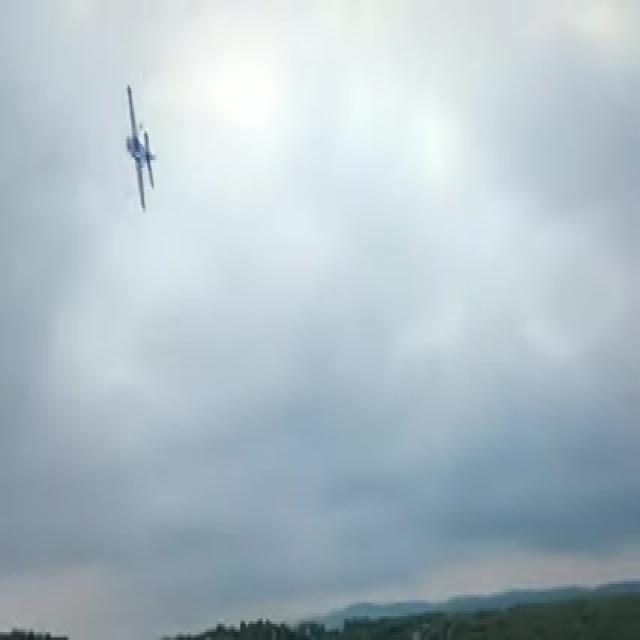iha: (117, 82, 151, 214)
